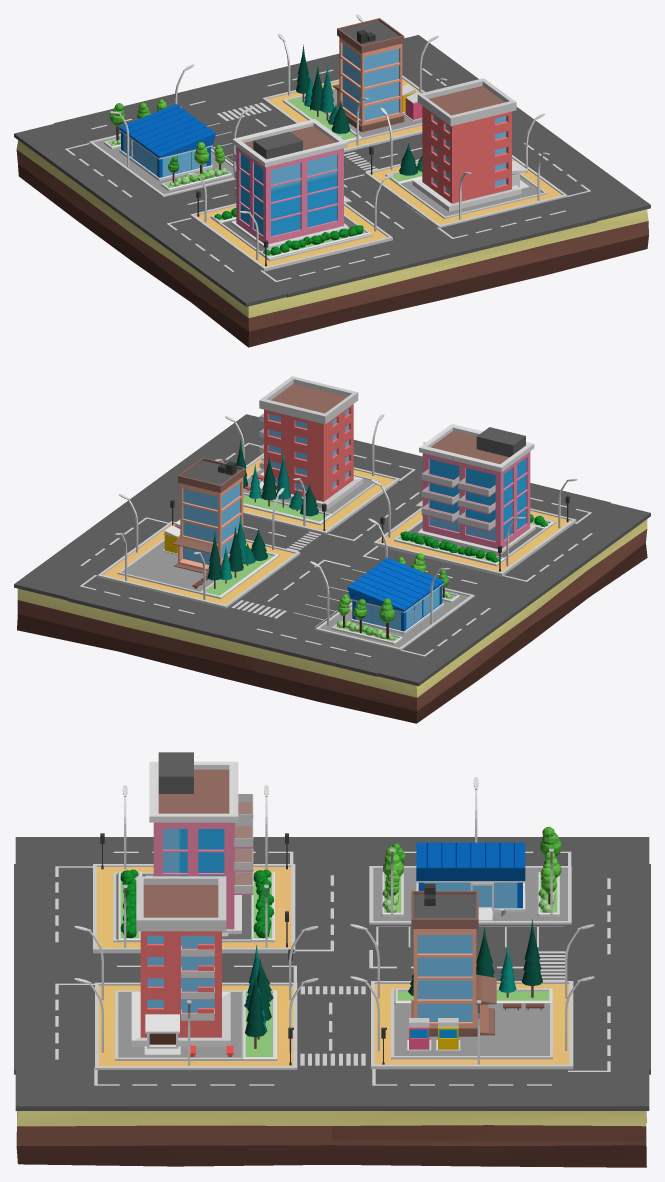
File: lowPolyCity.fbx
3 renders of one model, top to bottom at view 1: azimuth 30°, elevation 25°; view 2: azimuth 150°, elevation 25°; view 3: azimuth 270°, elevation 25°, orthographic. The views are drawn at different scales.
Visible parts, largest first — view 1: ROAD, Floor_6, House, House_2, House_3, Shop, Floor, Floor_2, ROAD_Lines_12, Floor_4_4, Floor_3, Floor_4_2 (+5 smaller); view 2: ROAD, Floor_6, House, House_2, House_3, Shop, Floor_3, Floor, ROAD_Lines_12, Floor_4_3, Floor_2, Floor_4_4 (+7 smaller); view 3: ROAD, Floor_6, House_2, House, House_3, Shop, Floor_4_3, Floor_3, Floor_2, Floor, ROAD_Lines_12, Floor_4_4 (+12 smaller).
Part boxes in pixels (bbox=[...]): ROAD: bbox=[14, 35, 650, 306]; Floor_6: bbox=[16, 140, 648, 347]; House: bbox=[231, 119, 351, 249]; House_2: bbox=[412, 78, 529, 211]; House_3: bbox=[332, 18, 404, 132]; Shop: bbox=[119, 104, 215, 180]; Floor: bbox=[190, 202, 392, 271]; Floor_2: bbox=[365, 155, 567, 227]; ROAD_Lines_12: bbox=[65, 68, 590, 281]; Floor_4_4: bbox=[89, 134, 236, 197]; Floor_3: bbox=[262, 75, 425, 152]; Floor_4_2: bbox=[385, 173, 547, 218]; ROAD: bbox=[14, 414, 650, 686]; Floor_6: bbox=[17, 490, 647, 723]; House: bbox=[415, 424, 535, 554]; House_2: bbox=[259, 376, 363, 509]; House_3: bbox=[173, 458, 245, 574]; Shop: bbox=[347, 557, 444, 634]; Floor_3: bbox=[97, 521, 300, 608]; Floor: bbox=[373, 507, 576, 576]; ROAD_Lines_12: bbox=[80, 442, 592, 656]; Floor_4_3: bbox=[117, 538, 279, 598]; Floor_2: bbox=[243, 453, 399, 534]; Floor_4_4: bbox=[315, 587, 474, 650]; ROAD: bbox=[14, 837, 650, 1110]; Floor_6: bbox=[16, 1111, 646, 1167]; House_2: bbox=[131, 876, 230, 1055]; House: bbox=[146, 752, 253, 936]; House_3: bbox=[411, 883, 496, 1036]; Shop: bbox=[416, 842, 525, 920]; Floor_4_3: bbox=[391, 989, 552, 1059]; Floor_3: bbox=[371, 981, 573, 1069]; Floor_2: bbox=[95, 982, 297, 1069]; Floor: bbox=[93, 864, 295, 953]; ROAD_Lines_12: bbox=[55, 851, 610, 1085]; Floor_4_4: bbox=[369, 866, 571, 924].
Bounding box in the file's own units: 219216 × 74420 × 219216.
